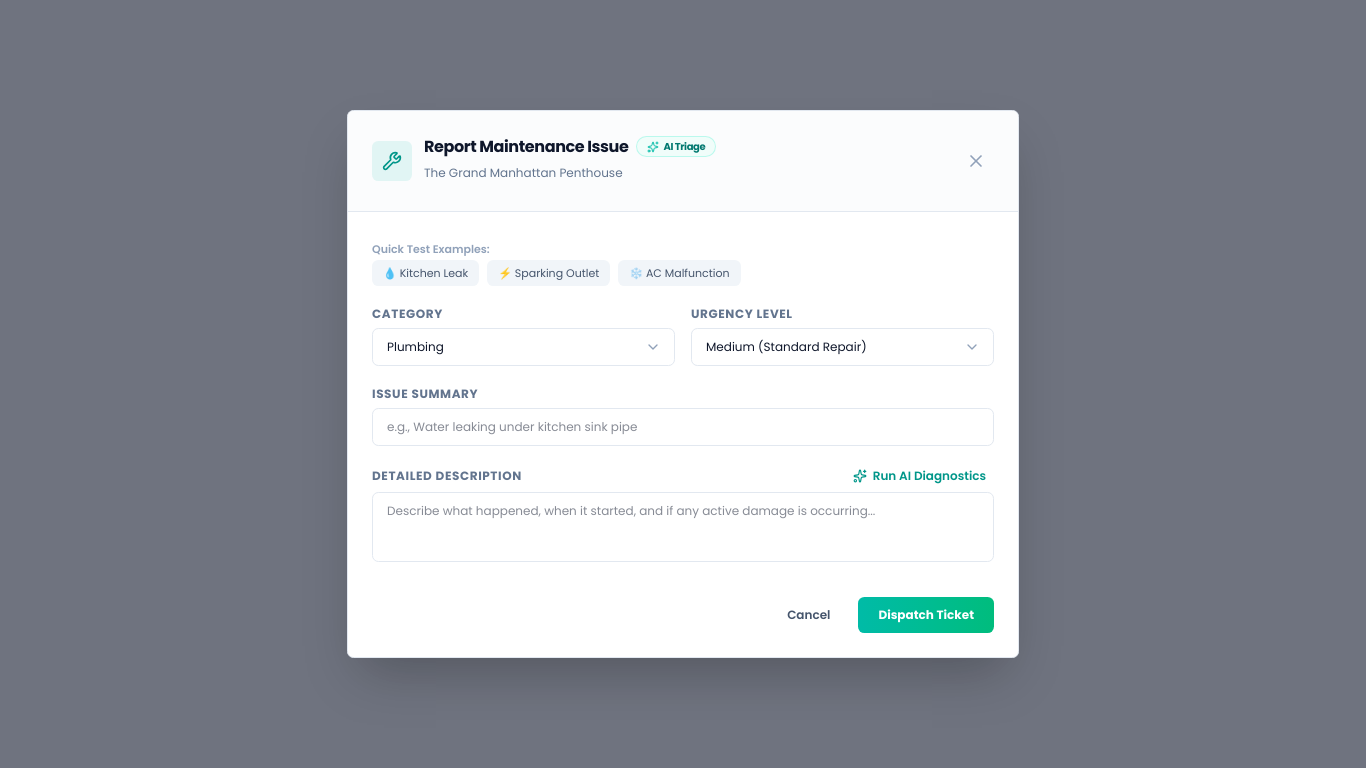
Test: MaintenanceRequestModal Form Validation & AI Diagnostics › populates fields when a preset sample button is clicked
Click the button "💧 Kitchen Leak". click: (426, 273)
box: [372,260,479,286]
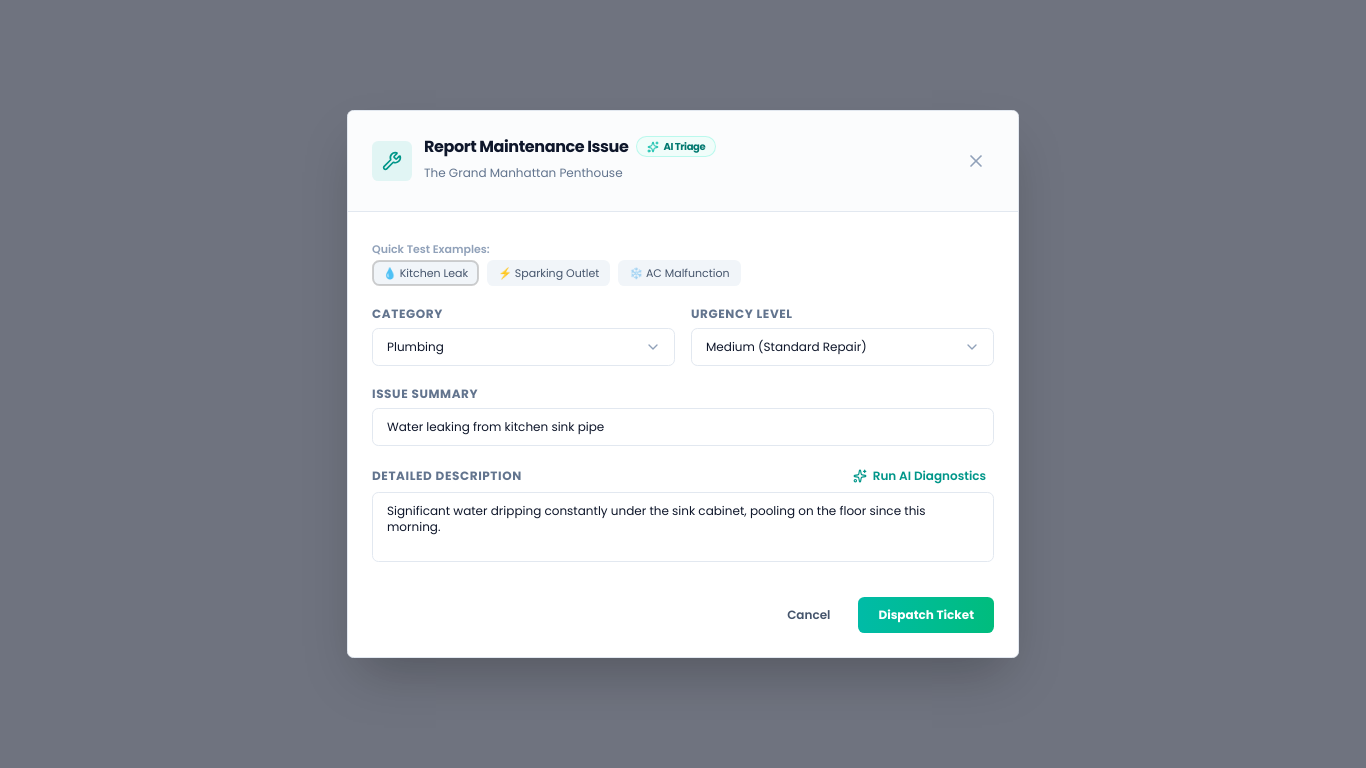
Result: the field with placeholder "e.g., Water leaking under kitchen sink pipe" holds "Water leaking from kitchen sink pipe" at [372,408,994,446]
